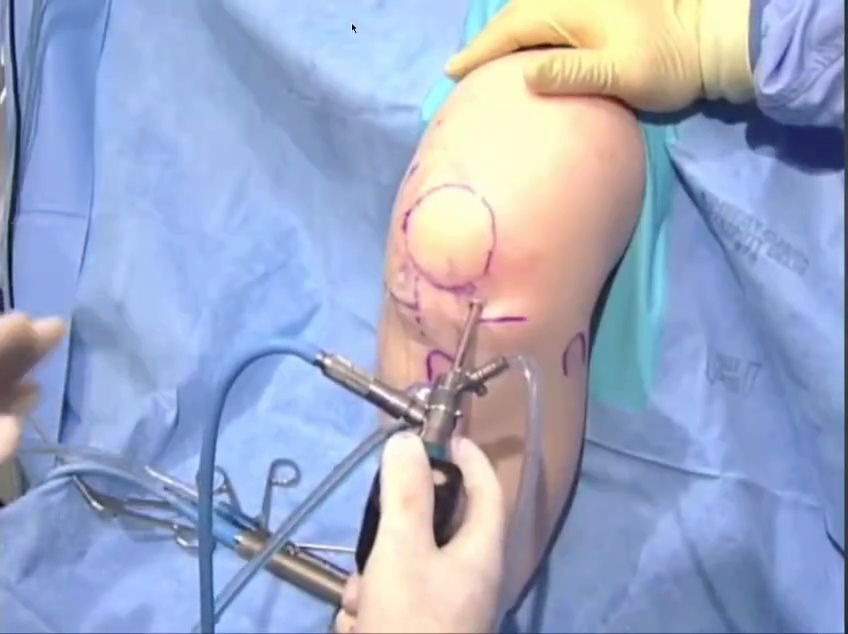arthroscope: (69, 202, 203, 474), (647, 0, 848, 146)
probe: (271, 230, 402, 416), (664, 146, 762, 298), (171, 127, 277, 233)
